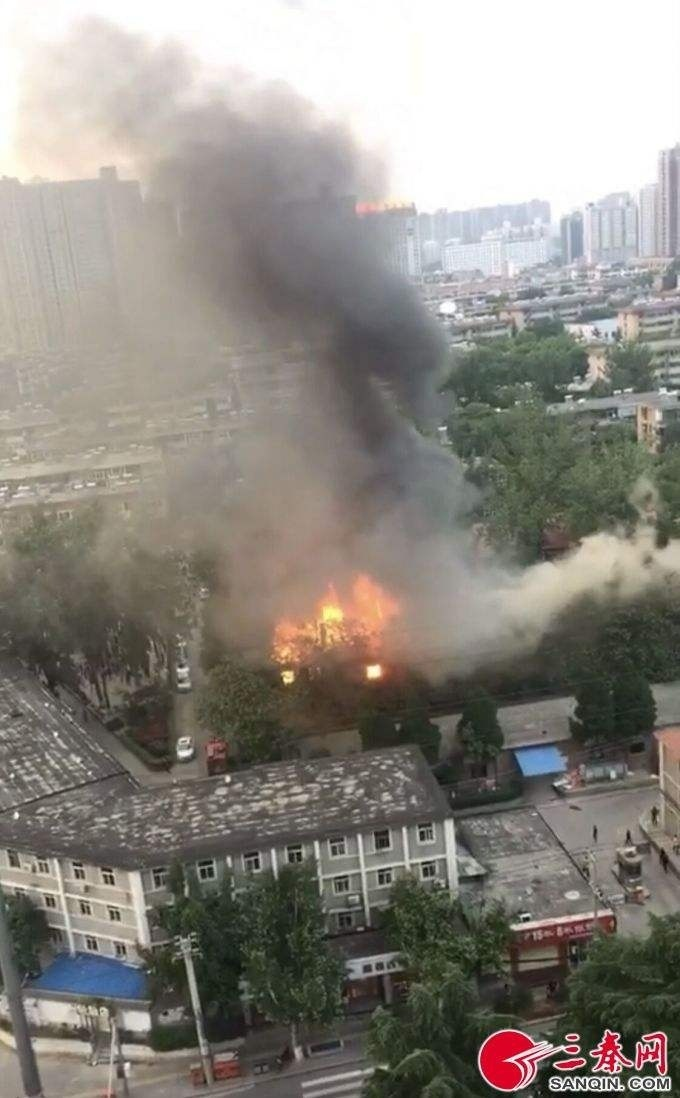fire: (271, 577, 402, 683)
